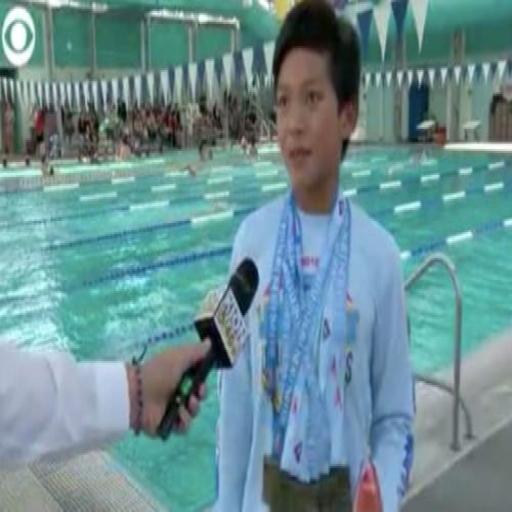swimming: (209, 0, 418, 510)
